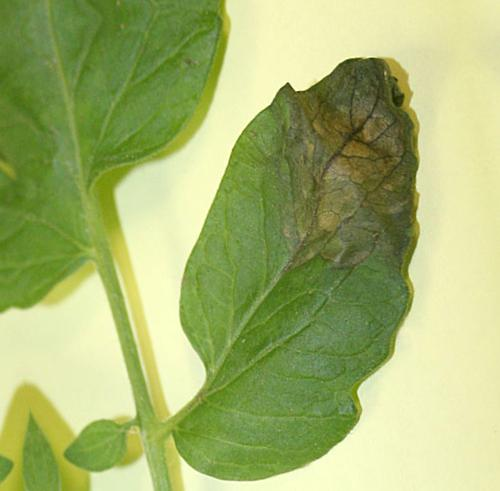Tomato leaf late blight: (98, 25, 487, 491)
